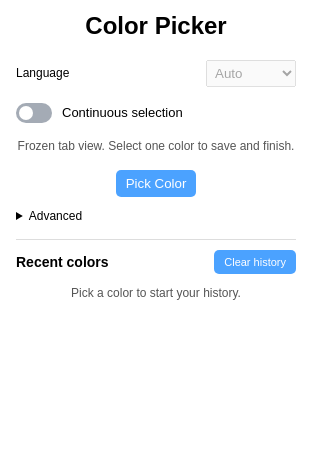
Test: popup interactions › reports selection failures and restores the button
Click the heading "Advanced": (55, 216) x1=29 y1=209 x2=82 y2=223
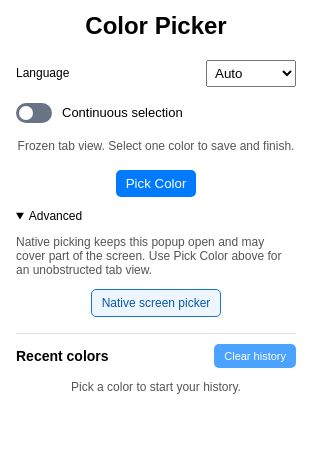
Click the button "Native screen picker": (156, 303) x1=91 y1=289 x2=221 y2=317
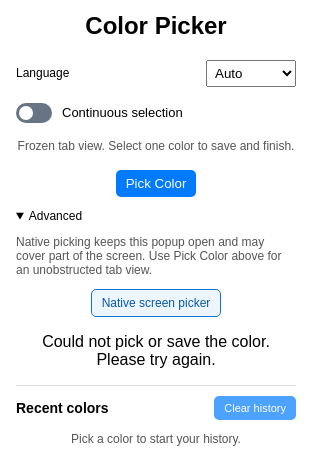
Expected: the button "Native screen picker" is enabled, x1=91 y1=289 x2=221 y2=317
Expected: the message shows "Could not pick or save the color", x1=42 y1=333 x2=270 y2=368
